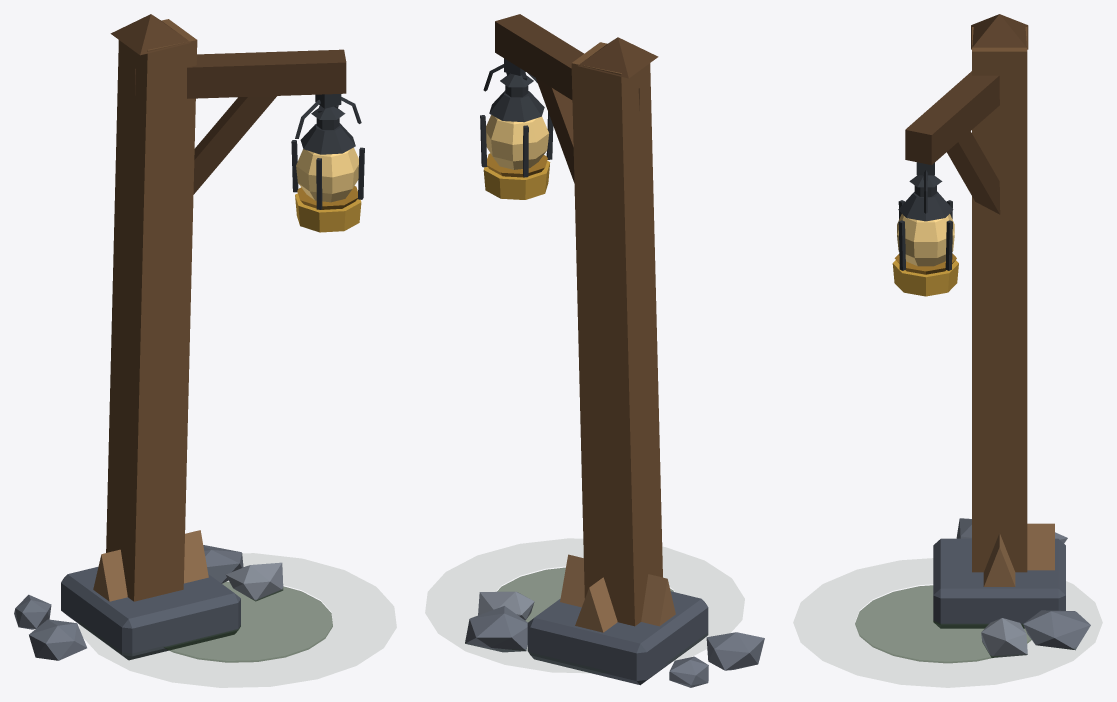
Rendered from oil_lantern_post.glb.
3 views of the same model, side by side, from view 1: azimuth 30°, elevation 25°; view 2: azimuth 150°, elevation 25°; view 3: azimuth 270°, elevation 25° (orthographic). The views are drawn at different scales.
Visible parts, largest first — view 1: oil_lantern_post; view 2: oil_lantern_post; view 3: oil_lantern_post.
Boxes of the visible parts, box(x1,y1,x2,y2) form: oil_lantern_post: box(14, 14, 364, 662); oil_lantern_post: box(465, 14, 764, 687); oil_lantern_post: box(855, 14, 1090, 663).
Bounding box in the file's own units: 0.986 × 1.77 × 0.84.
